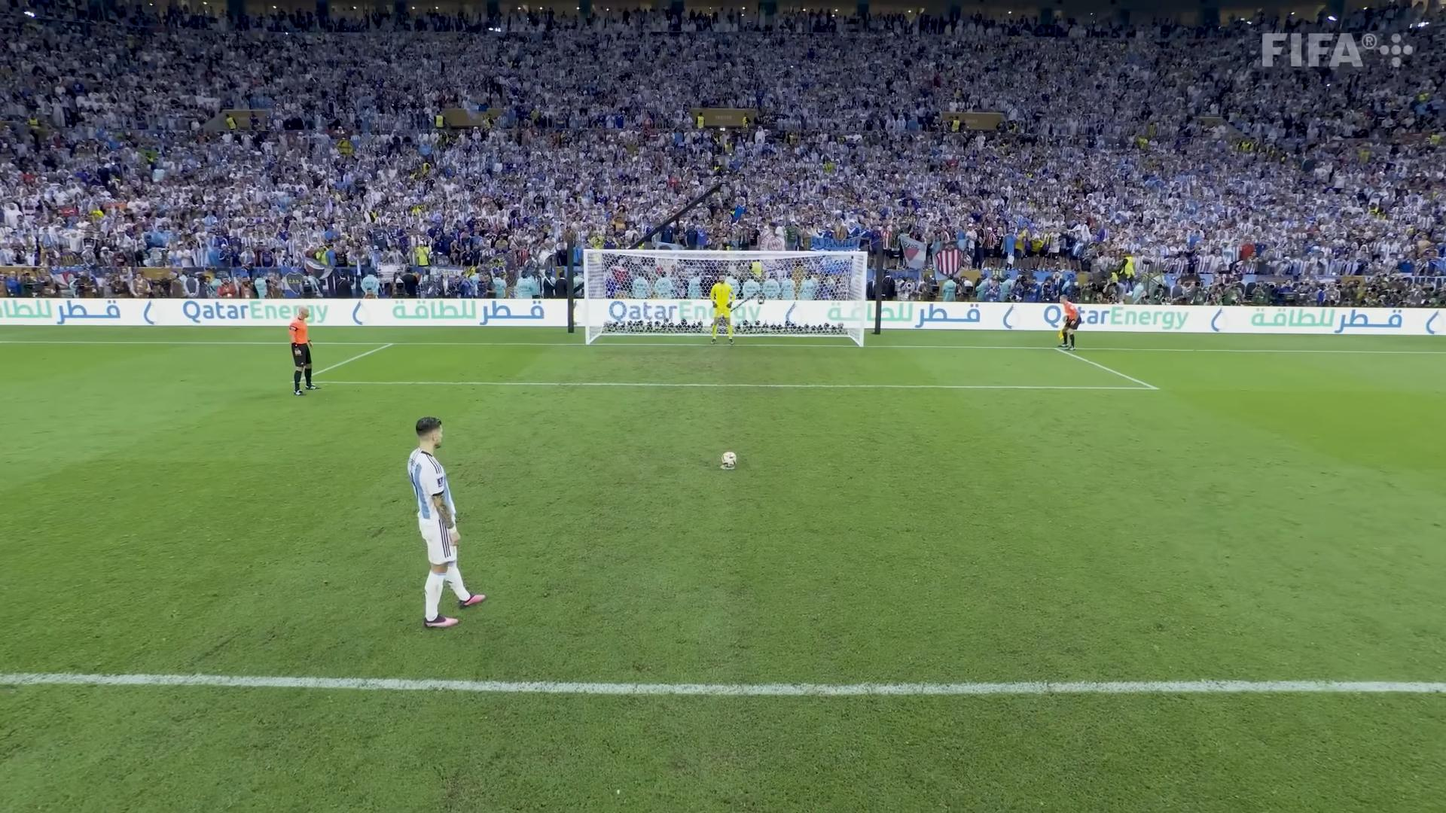Goalkeeper: (709, 279, 734, 343)
Player: (407, 418, 486, 630), (407, 449, 455, 519)
ball: (720, 452, 737, 467)
referee: (288, 305, 313, 394), (1062, 296, 1082, 350)
